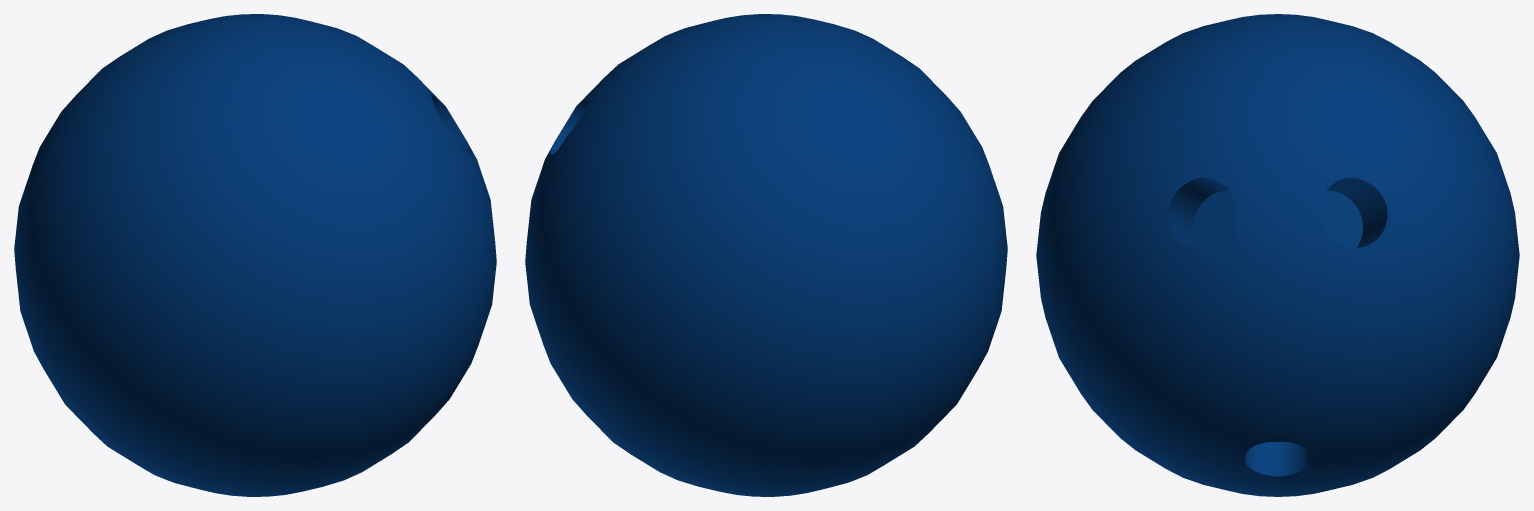
File: ball.glb
The picture shows the model from 3 angles, left to right: view 1: azimuth 30°, elevation 25°; view 2: azimuth 150°, elevation 25°; view 3: azimuth 270°, elevation 25°; orthographic projection.
Visible parts, largest first — view 1: bowling_ball; view 2: bowling_ball; view 3: bowling_ball.
Part boxes in pixels (x1=…): bowling_ball: x1=14, y1=14, x2=496, y2=496; bowling_ball: x1=525, y1=14, x2=1007, y2=496; bowling_ball: x1=1036, y1=14, x2=1519, y2=496.
Bounding box in the file's own units: 0.84 × 0.84 × 0.84.
